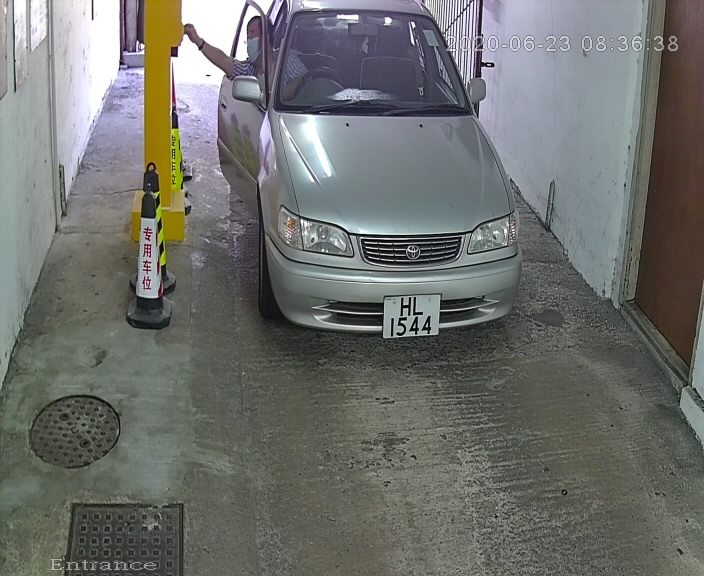privatecar: (197, 1, 530, 365)
